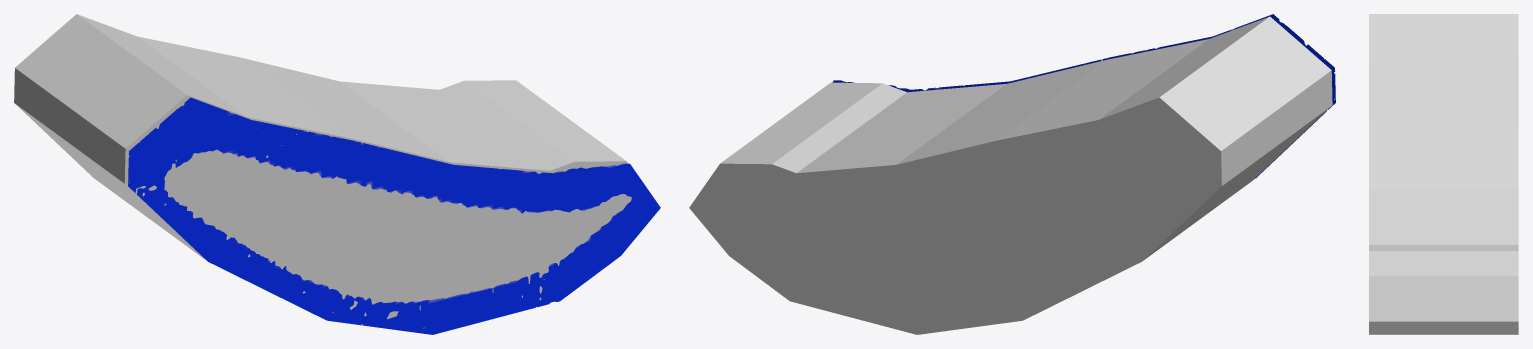
3 renders of one model, left to right at view 1: azimuth 30°, elevation 25°; view 2: azimuth 150°, elevation 25°; view 3: azimuth 270°, elevation 25°, orthographic. The views are drawn at different scales.
Parts seen in each view (by area): view 1: In_8_0, In_8_1; view 2: In_8_0, In_8_1; view 3: In_8_0.
Boxes of the visible parts, x1=… form: In_8_0: x1=14, y1=14, x2=631, y2=328; In_8_1: x1=128, y1=97, x2=660, y2=334; In_8_0: x1=689, y1=16, x2=1332, y2=334; In_8_1: x1=832, y1=14, x2=1335, y2=178; In_8_0: x1=1369, y1=14, x2=1518, y2=334.
Size of the model in its own units: 1.39 by 0.7395 by 0.515.
Materials: 2 (1 with a texture image).
